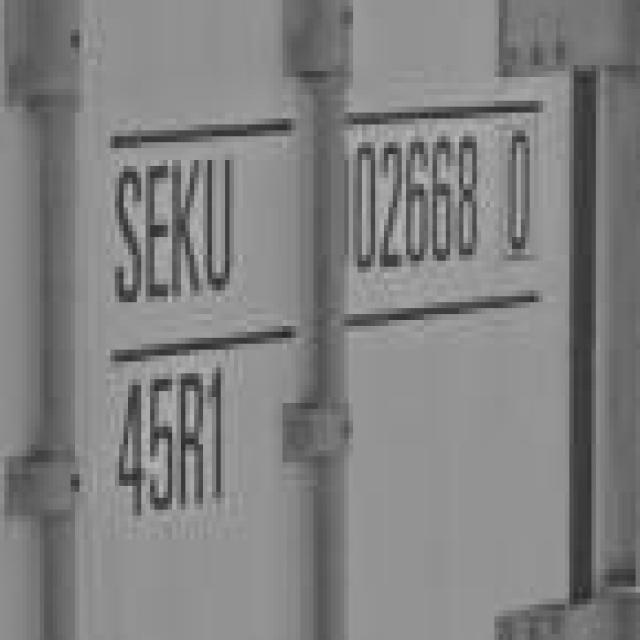dv: (494, 126, 552, 260)
owner: (99, 152, 255, 309)
serial: (343, 127, 484, 275)
size: (108, 361, 245, 514)
